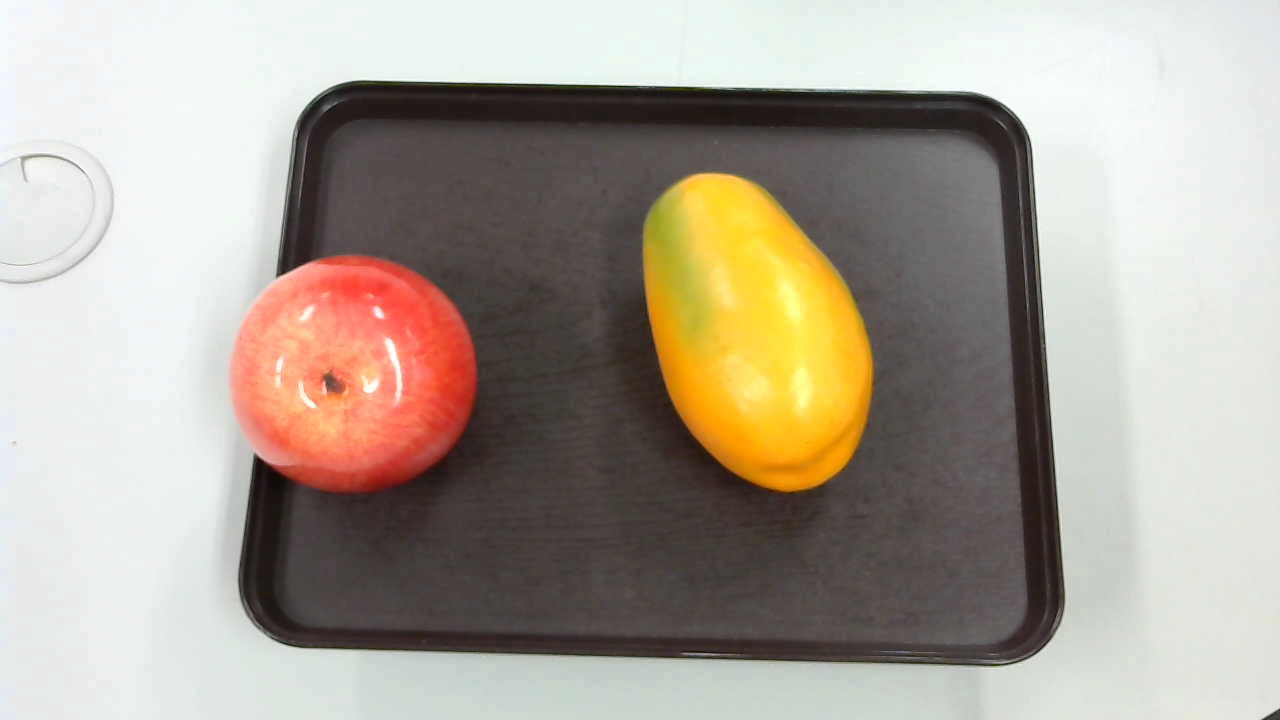papya: (640, 170, 873, 497)
red apple: (229, 252, 478, 490)
